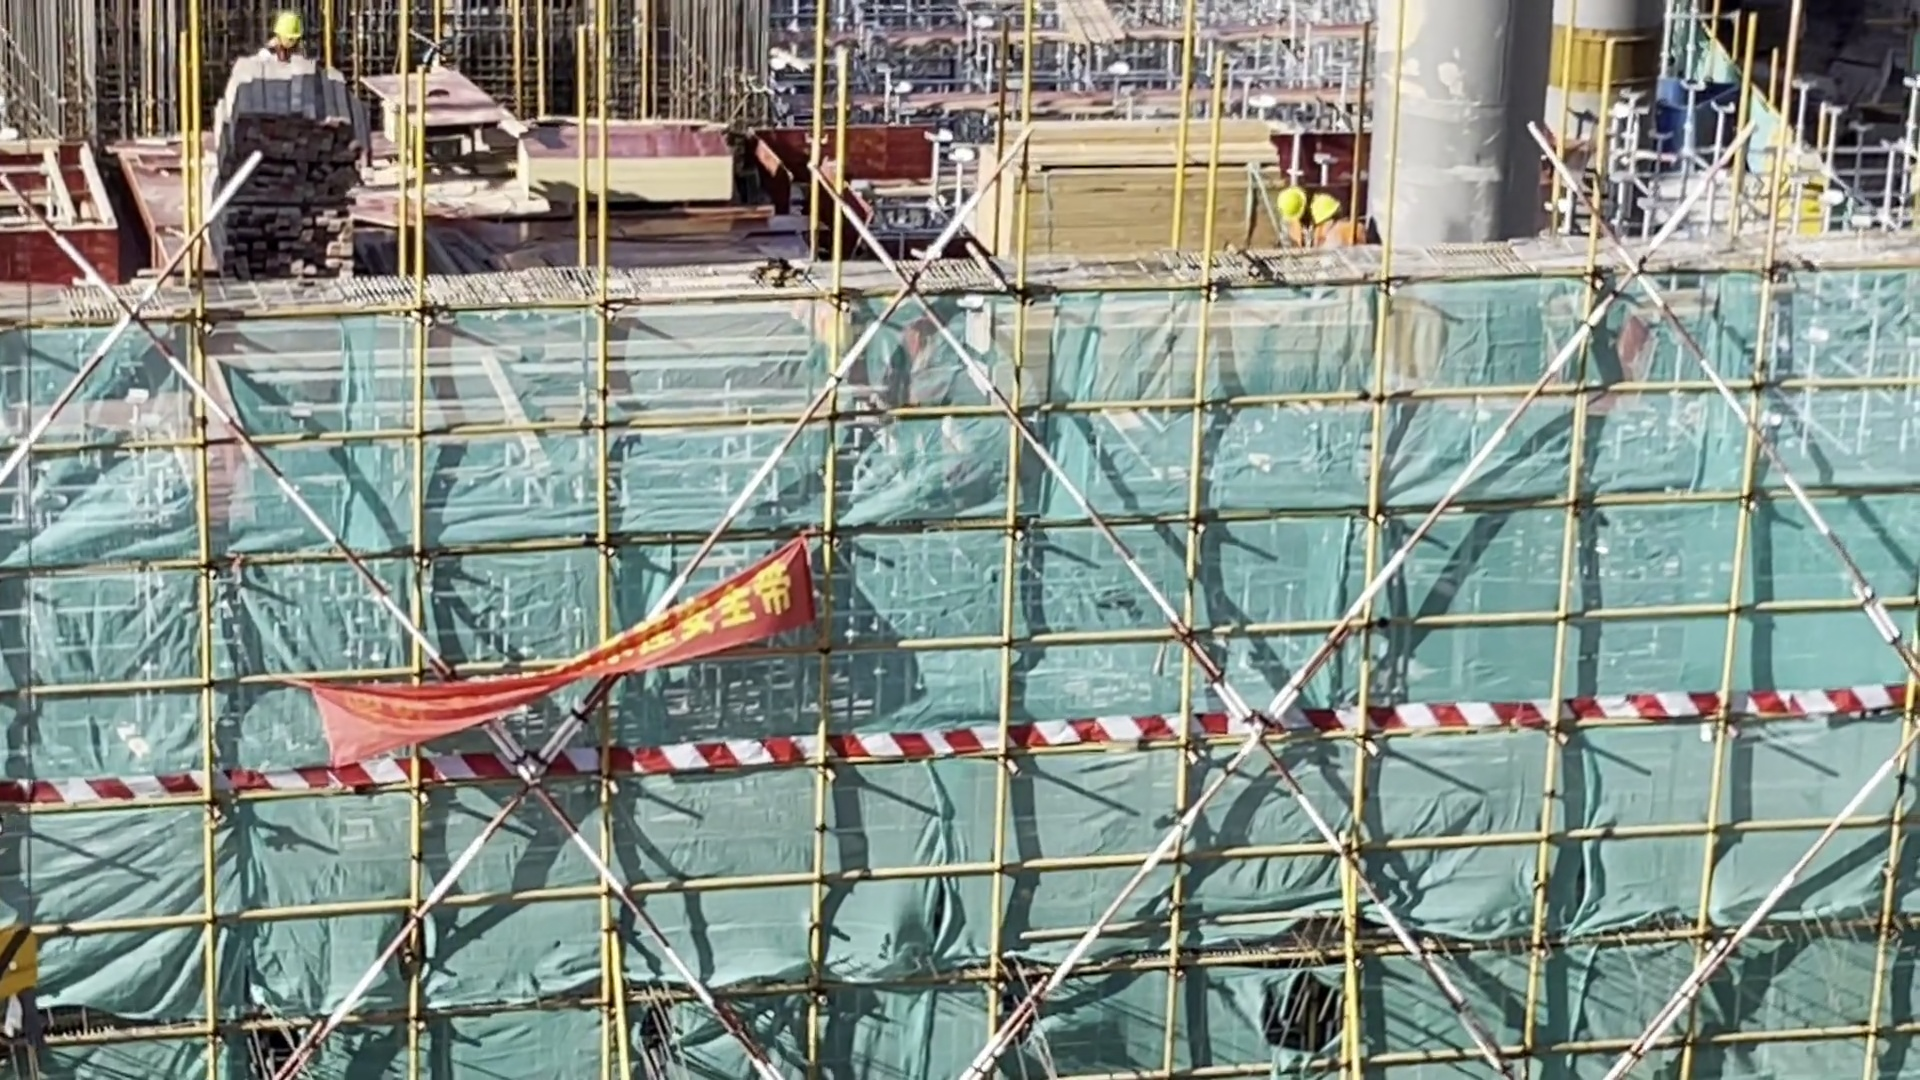cutter: (408, 77, 456, 100)
helmet: (1277, 190, 1347, 221), (268, 12, 298, 41)
hook: (4, 914, 54, 1047)
person: (1274, 186, 1380, 254), (248, 6, 316, 60)
slogan: (300, 530, 819, 783)
wood: (972, 108, 1282, 266), (205, 52, 365, 294)
